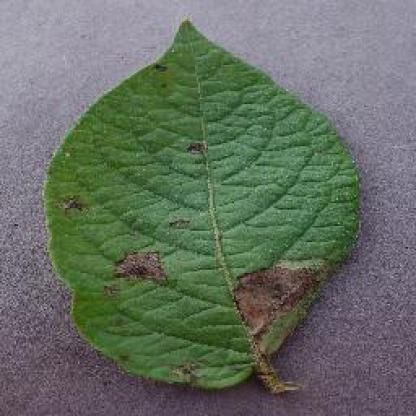bad leaf: (27, 40, 368, 396)
